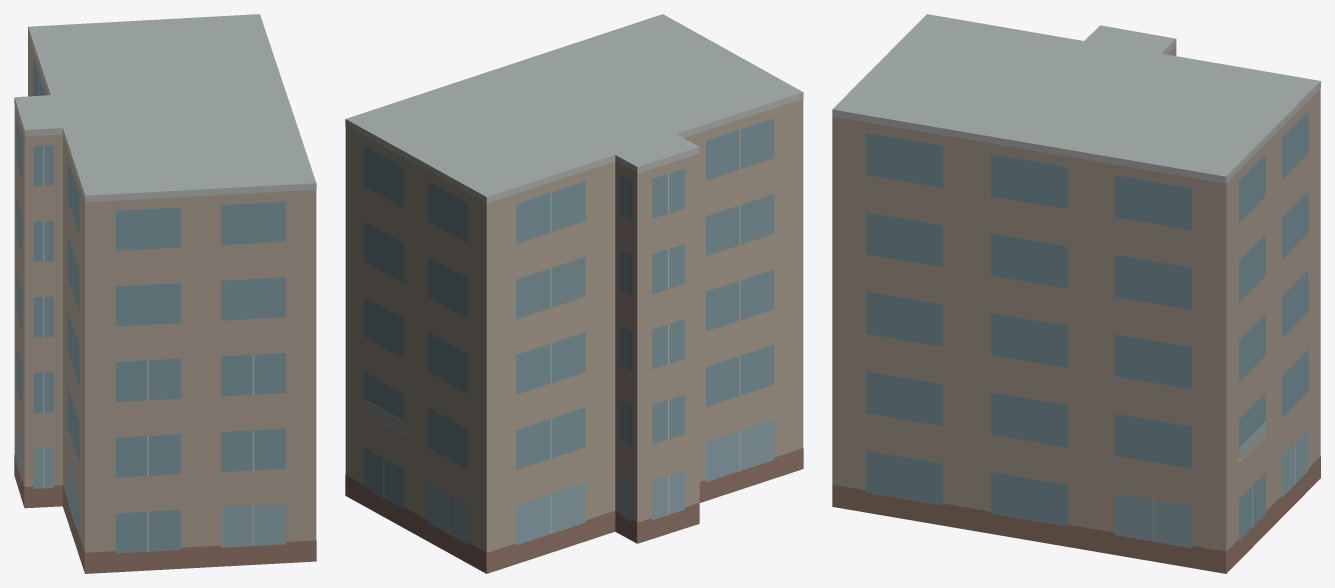
Rendered from survey-upis-32749901.glb.
3 views of the same model, side by side, from view 1: azimuth 30°, elevation 25°; view 2: azimuth 150°, elevation 25°; view 3: azimuth 270°, elevation 25° (orthographic). The views are drawn at different scales.
Parts seen in each view (by area): view 1: survey-upis-32749901.tmp; view 2: survey-upis-32749901.tmp; view 3: survey-upis-32749901.tmp.
Part boxes in pixels (x1,y1,x2,y2): survey-upis-32749901.tmp: (14, 14, 316, 573); survey-upis-32749901.tmp: (345, 14, 803, 573); survey-upis-32749901.tmp: (832, 14, 1320, 573).
Bounding box in the file's own units: 12.3 × 14 × 15.62.
